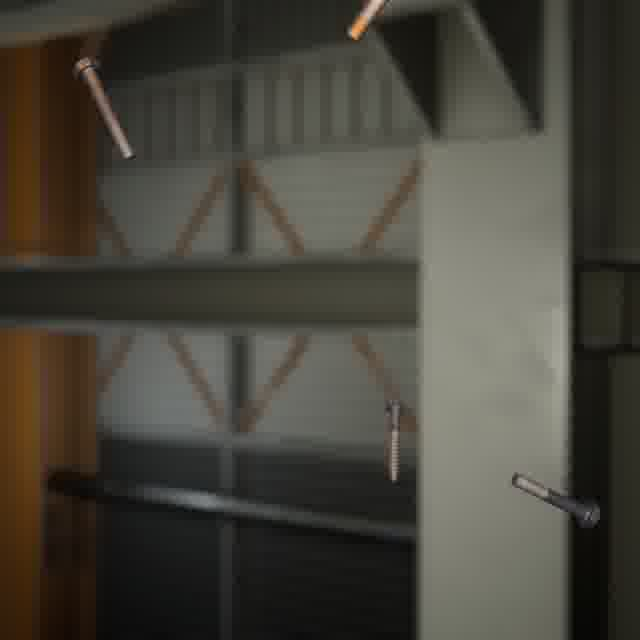bolt: (69, 53, 139, 165), (506, 468, 605, 533), (381, 392, 410, 486), (341, 0, 394, 46)
